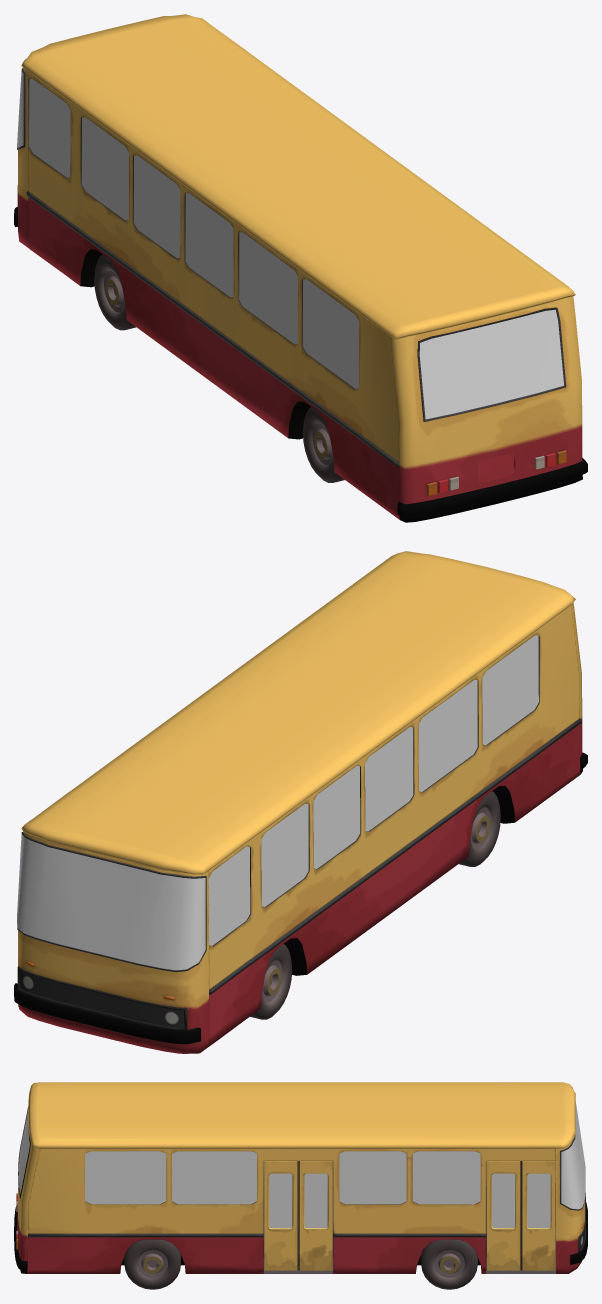
Rendered from bussy.fbx.
The picture shows the model from 3 angles, top to bottom: view 1: azimuth 30°, elevation 25°; view 2: azimuth 150°, elevation 25°; view 3: azimuth 270°, elevation 25°; orthographic projection. The views are drawn at different scales.
Parts seen in each view (by area): view 1: bus-hull, bus.windows, wheel-front-L, wheel-back-L, bus-lights; view 2: bus-hull, bus.windows, bus-lights, wheel-back-L, wheel-front-L; view 3: bus-hull, bus.windows, doors.second.002, doors.first.002, doors.second.001, doors.first.001, wheel-back-R, wheel-front-R, doors-second-windows, doors-second-windows.001, doors-first-windows, doors-first-windows.001.
Part boxes in pixels (x1,y1,x2,y2): bus-hull: (14, 14, 587, 522); bus.windows: (17, 71, 563, 419); wheel-front-L: (94, 254, 135, 330); wheel-back-L: (303, 407, 344, 482); bus-lights: (427, 450, 566, 495); bus-hull: (14, 551, 587, 1053); bus.windows: (17, 635, 538, 970); bus-lights: (19, 961, 183, 1027); wheel-back-L: (459, 791, 500, 866); wheel-front-L: (250, 944, 292, 1019); bus-hull: (14, 1082, 587, 1273); bus.windows: (19, 1102, 585, 1209); doors.second.002: (298, 1161, 332, 1270); doors.first.002: (521, 1161, 555, 1270); doors.second.001: (264, 1161, 298, 1270); doors.first.001: (487, 1161, 521, 1270); wheel-back-R: (124, 1239, 180, 1289); wheel-front-R: (421, 1239, 477, 1289); doors-second-windows: (269, 1173, 292, 1228); doors-second-windows.001: (304, 1173, 327, 1228); doors-first-windows: (492, 1173, 515, 1228); doors-first-windows.001: (527, 1173, 550, 1228).
Bounding box in the file's own units: 326 × 358 × 1213.
Materials: 10 (9 with a texture image).
